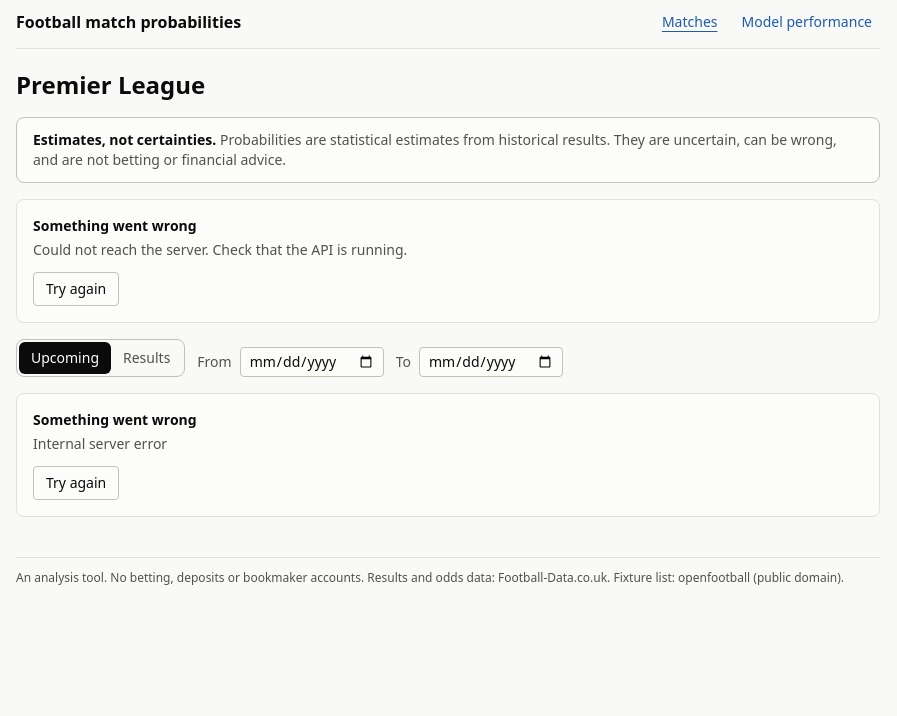
Test: Dashboard › shows an error with a retry button, and the API error message
Check: the number of messages is 2, box [16,199,880,323]; [16,393,880,517]
Check: the text "Internal server error" is shown, box [33,434,167,453]
Click the button "Try again" below "Internal server error" at x=76, y=483, box [33,466,119,500]
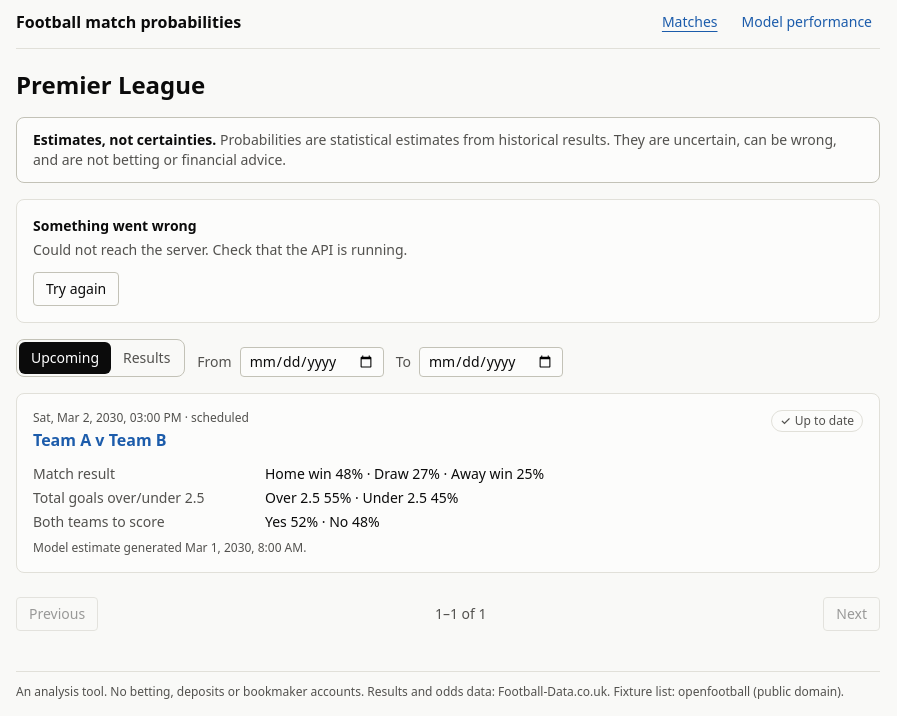
Check: the link "Team A v Team B" is shown, box [33,429,166,451]
